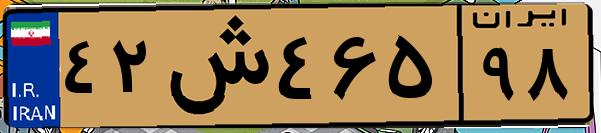2: (110, 28, 158, 98)
4: (270, 28, 330, 110), (57, 26, 110, 100)
5: (385, 28, 445, 110)
6: (330, 28, 385, 110)
8: (525, 38, 570, 115)
9: (475, 38, 525, 113)
ش: (158, 12, 270, 120)
